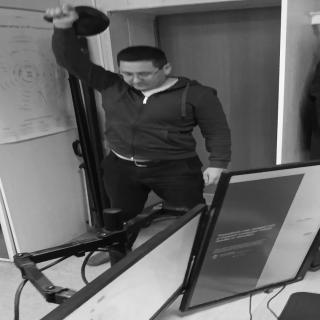kettlebell: (44, 6, 103, 35)
